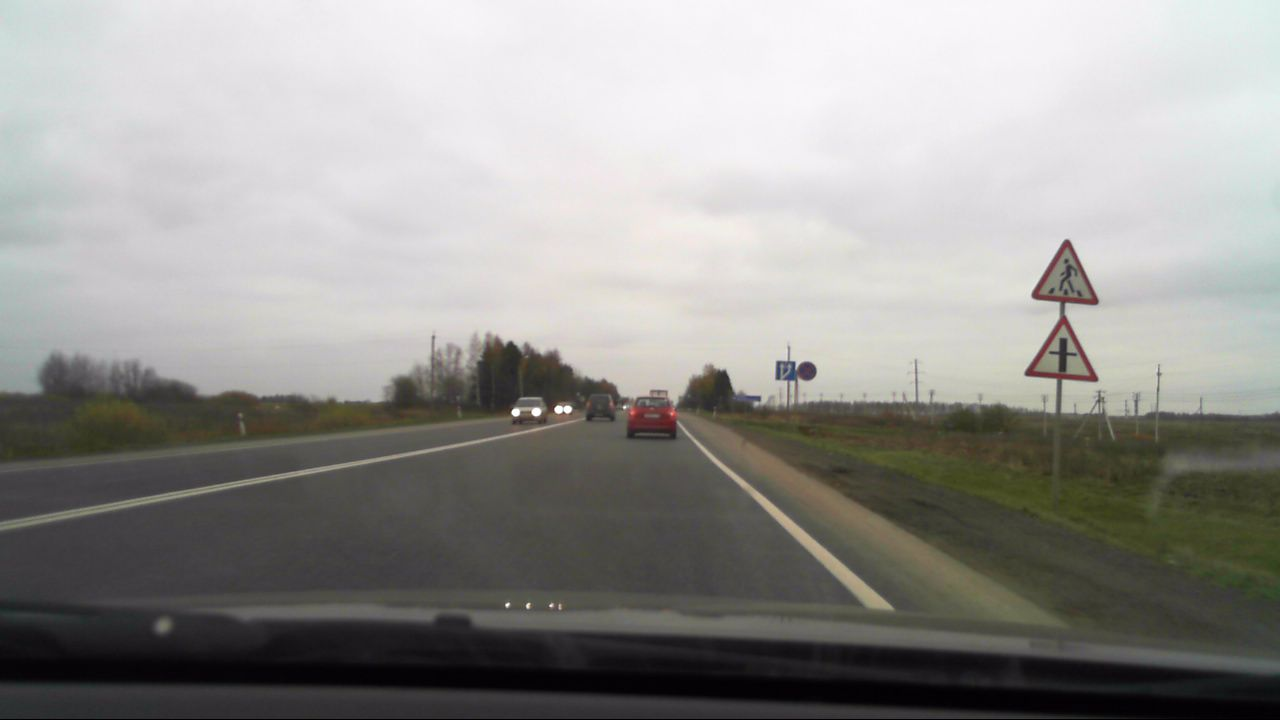No Parking: (797, 360, 819, 381)
